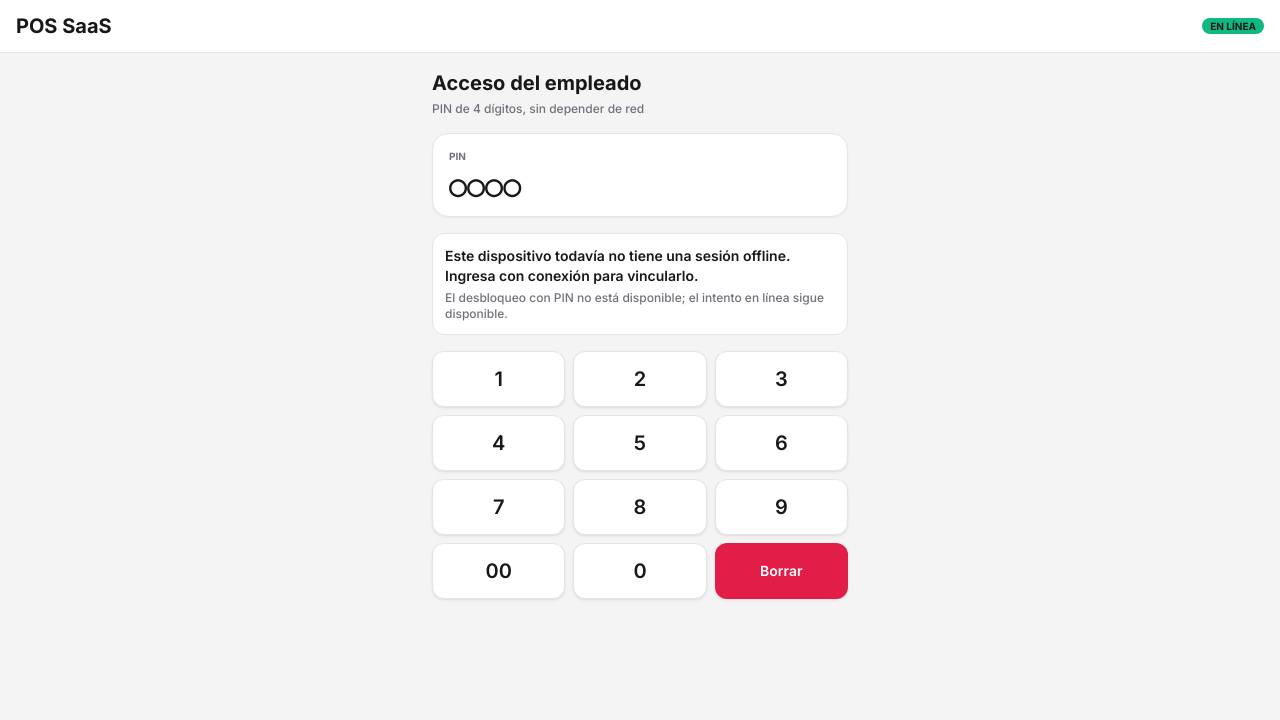
Test case: App shell › never blocks a rendered interaction when the connection flips
Click the button "1" at (499, 379), box [432, 351, 565, 407]
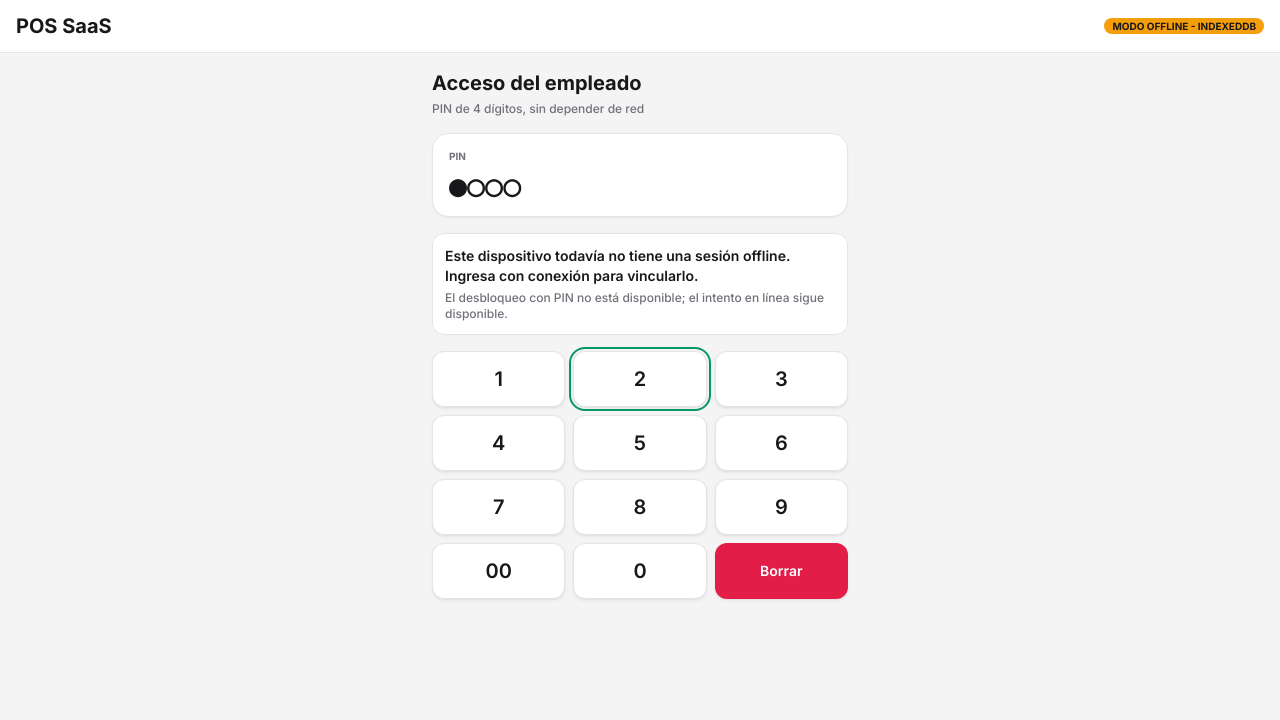
expect the text with test id "pin-display" reads "●○○○": met, box [449, 165, 521, 205]
expect the text "Modo Offline - IndexedDB" is shown: met, box [1104, 18, 1264, 34]
Click the button "2" at (640, 379), box [573, 351, 707, 407]
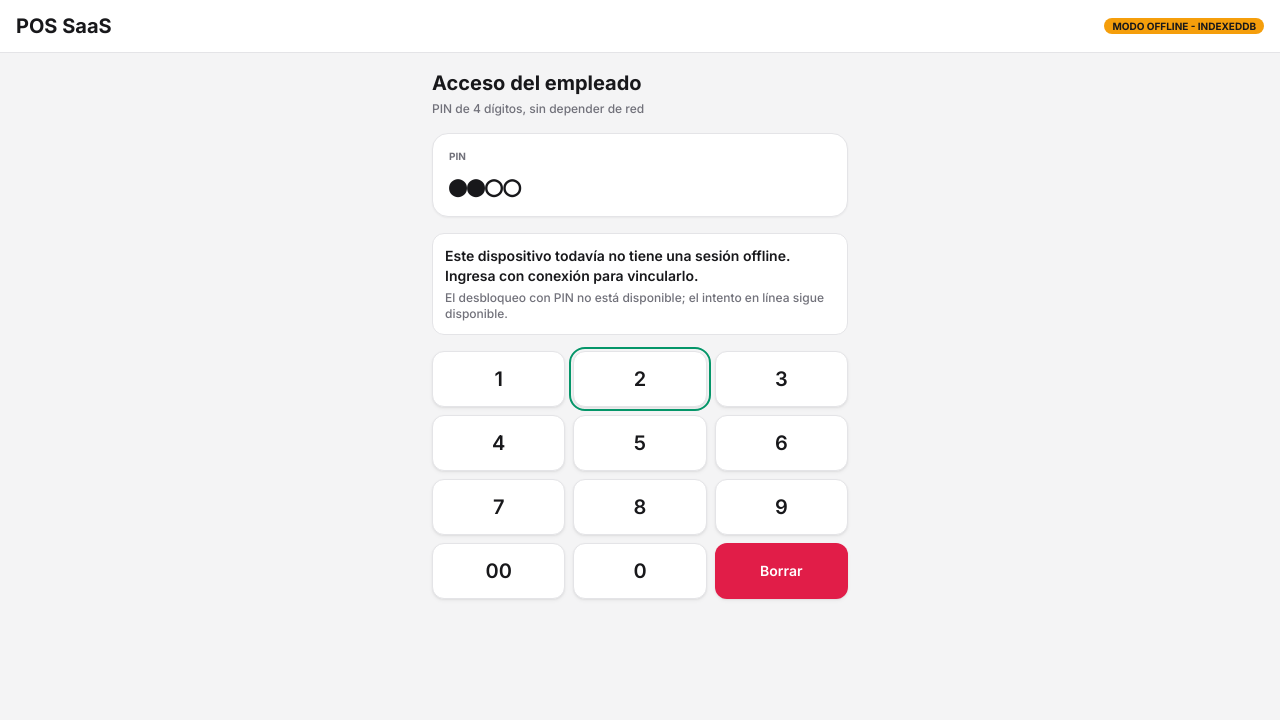
expect the text with test id "pin-display" reads "●●○○": met, box [449, 165, 521, 205]
